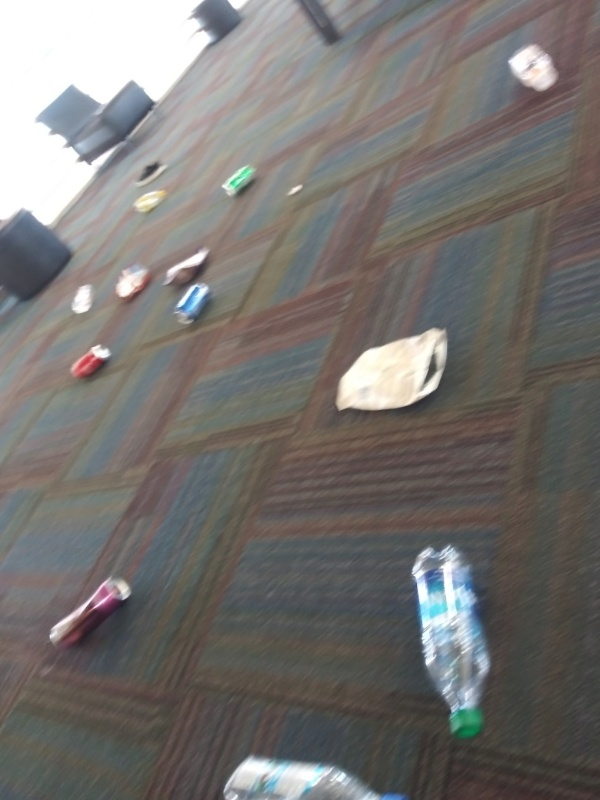bag: (330, 324, 457, 425), (158, 241, 214, 292), (110, 257, 156, 306)
bottle: (401, 543, 505, 743), (210, 749, 417, 800), (500, 41, 567, 96), (128, 185, 169, 219), (67, 280, 98, 317)
can: (42, 572, 134, 654), (168, 280, 217, 331), (62, 341, 117, 382), (218, 160, 260, 201)
